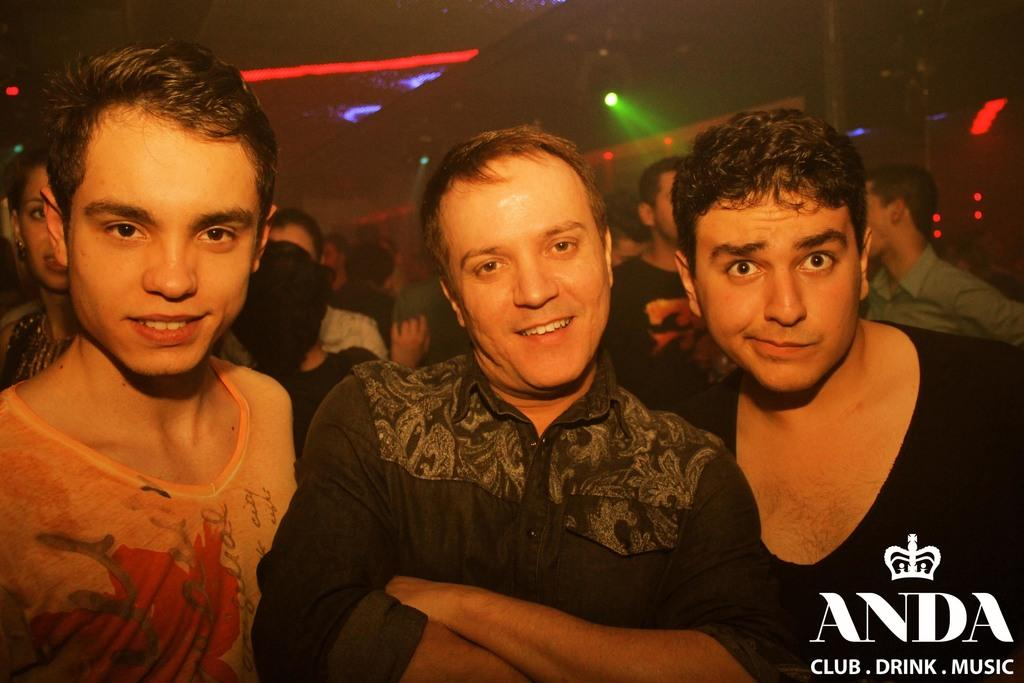Sem Máscara: (67, 114, 263, 372), (448, 150, 610, 399), (694, 184, 863, 395), (19, 159, 64, 292), (862, 177, 888, 256), (651, 168, 676, 243), (267, 222, 317, 259)
